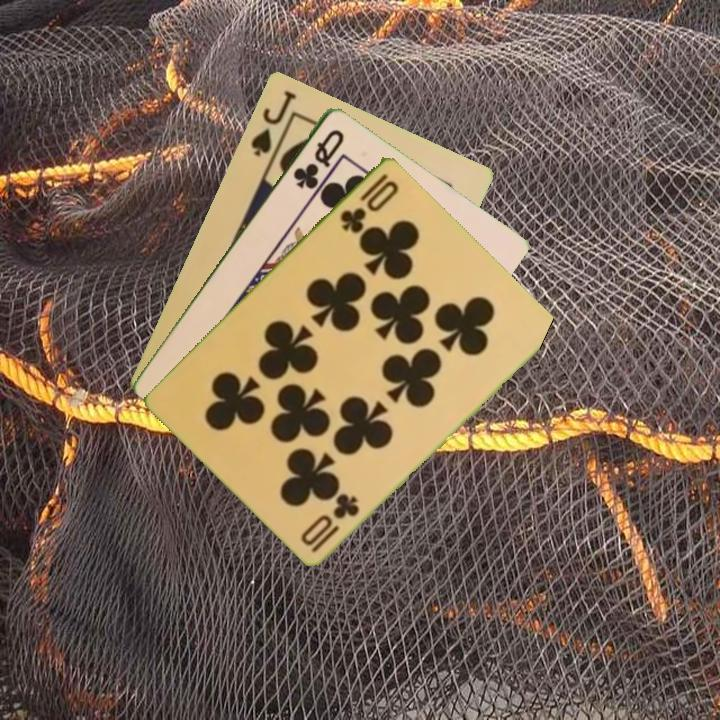10c: (336, 169, 402, 236), (307, 490, 363, 555)
Js: (246, 86, 299, 159)
Qc: (289, 125, 347, 192)
